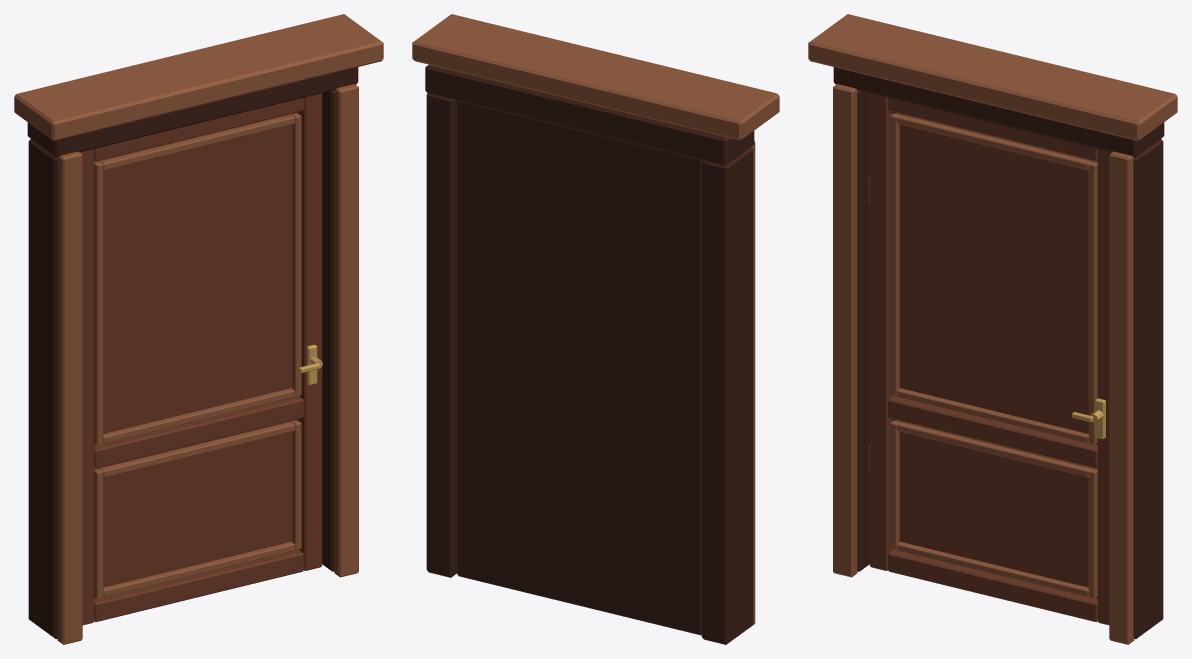
The model's file is door_21.glb.
3 renders of one model, left to right at view 1: azimuth 30°, elevation 25°; view 2: azimuth 150°, elevation 25°; view 3: azimuth 330°, elevation 25°, orthographic.
Visible parts, largest first — view 1: Panel_0_1_Field, Panel_0_0_Field, Cornice, Jamb__1, Jamb_moulding__1, Jamb_moulding_1, Leaf_stile_0_1, Jamb_1, Leaf_stile_0__1, Lintel, Leaf_crossrail_0_0_812, Leaf_crossrail_0_0_048 (+9 smaller); view 2: Leaf_0, Jamb__1, Cornice, Jamb_1, Lintel, Jamb_moulding__1; view 3: Panel_0_1_Field, Panel_0_0_Field, Cornice, Jamb_1, Jamb_moulding_1, Jamb_moulding__1, Leaf_stile_0__1, Jamb__1, Lintel, Leaf_stile_0_1, Leaf_crossrail_0_0_812, Leaf_crossrail_0_0_048 (+9 smaller).
Boxes of the visible parts, <box> form: Panel_0_1_Field: <box>94,112,297,433</box>; Panel_0_0_Field: <box>94,419,296,587</box>; Cornice: <box>14,14,383,140</box>; Jamb__1: <box>28,139,58,639</box>; Jamb_moulding__1: <box>57,151,82,644</box>; Jamb_moulding_1: <box>334,84,358,577</box>; Leaf_stile_0_1: <box>299,93,322,570</box>; Jamb_1: <box>322,90,334,571</box>; Leaf_stile_0__1: <box>80,149,94,625</box>; Lintel: <box>27,67,358,157</box>; Leaf_crossrail_0_0_812: <box>94,396,303,468</box>; Leaf_crossrail_0_0_048: <box>94,550,303,622</box>; Leaf_0: <box>457,100,702,635</box>; Jamb__1: <box>701,147,753,644</box>; Cornice: <box>412,14,779,140</box>; Jamb_1: <box>426,93,457,577</box>; Lintel: <box>425,64,754,165</box>; Jamb_moulding__1: <box>750,141,755,627</box>; Panel_0_1_Field: <box>894,112,1097,433</box>; Panel_0_0_Field: <box>895,419,1097,587</box>; Cornice: <box>808,14,1177,140</box>; Jamb_1: <box>1133,139,1163,639</box>; Jamb_moulding_1: <box>1109,151,1134,644</box>; Jamb_moulding__1: <box>833,84,857,577</box>; Leaf_stile_0__1: <box>869,93,892,570</box>; Jamb__1: <box>857,90,869,571</box>; Lintel: <box>833,67,1164,157</box>; Leaf_stile_0_1: <box>1097,149,1111,625</box>; Leaf_crossrail_0_0_812: <box>888,396,1097,468</box>; Leaf_crossrail_0_0_048: <box>888,550,1097,622</box>.
Bounding box in the file's own units: 1.73 × 2.65 × 0.37.
